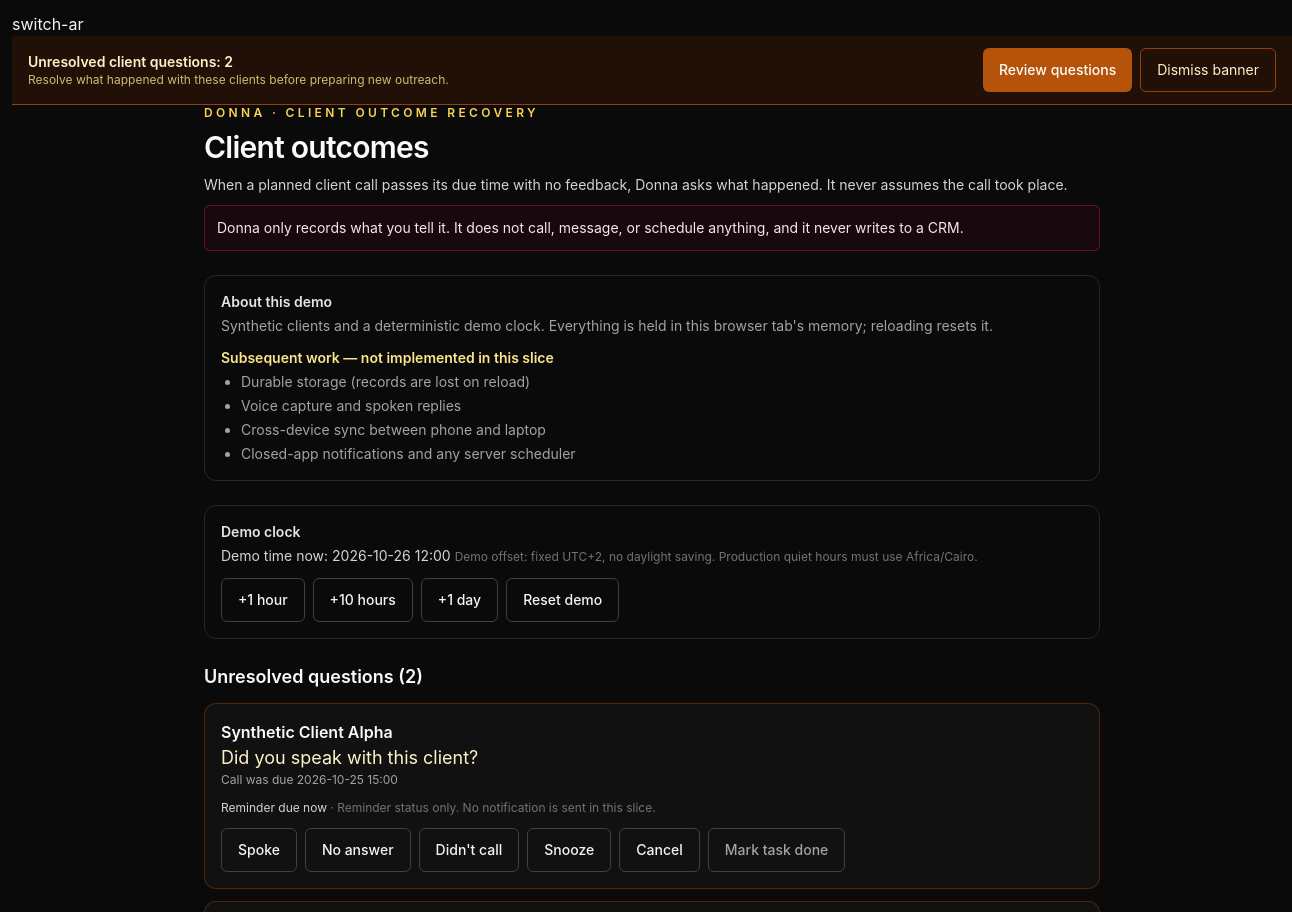
Test: Donna inbox (English) › raises the banner again when a new question becomes due after dismissal
Click the button "Dismiss banner": {"x": 1208, "y": 70} x1=1140 y1=48 x2=1276 y2=92
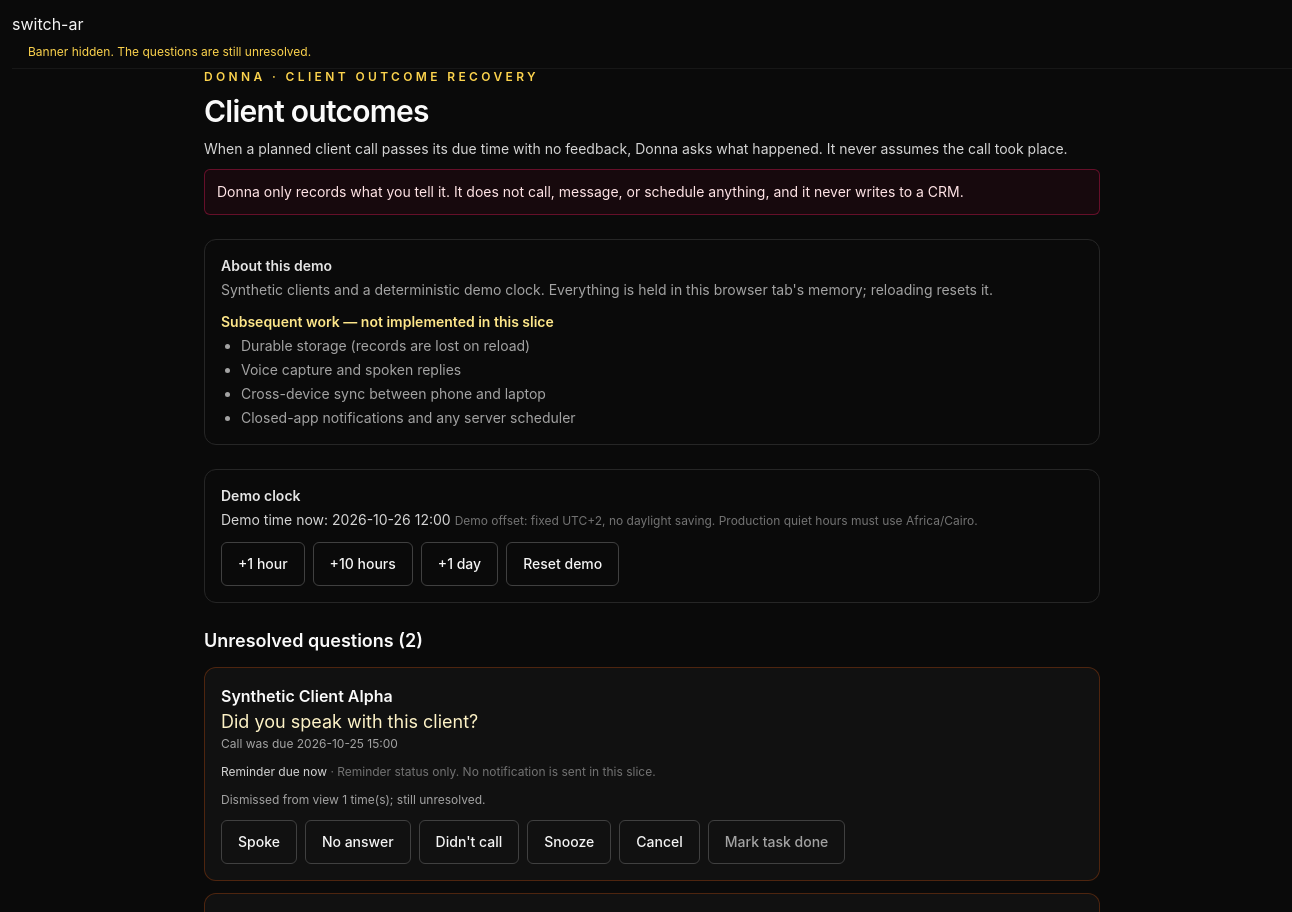
Click the button "+10 hours": {"x": 363, "y": 564} x1=313 y1=542 x2=413 y2=586
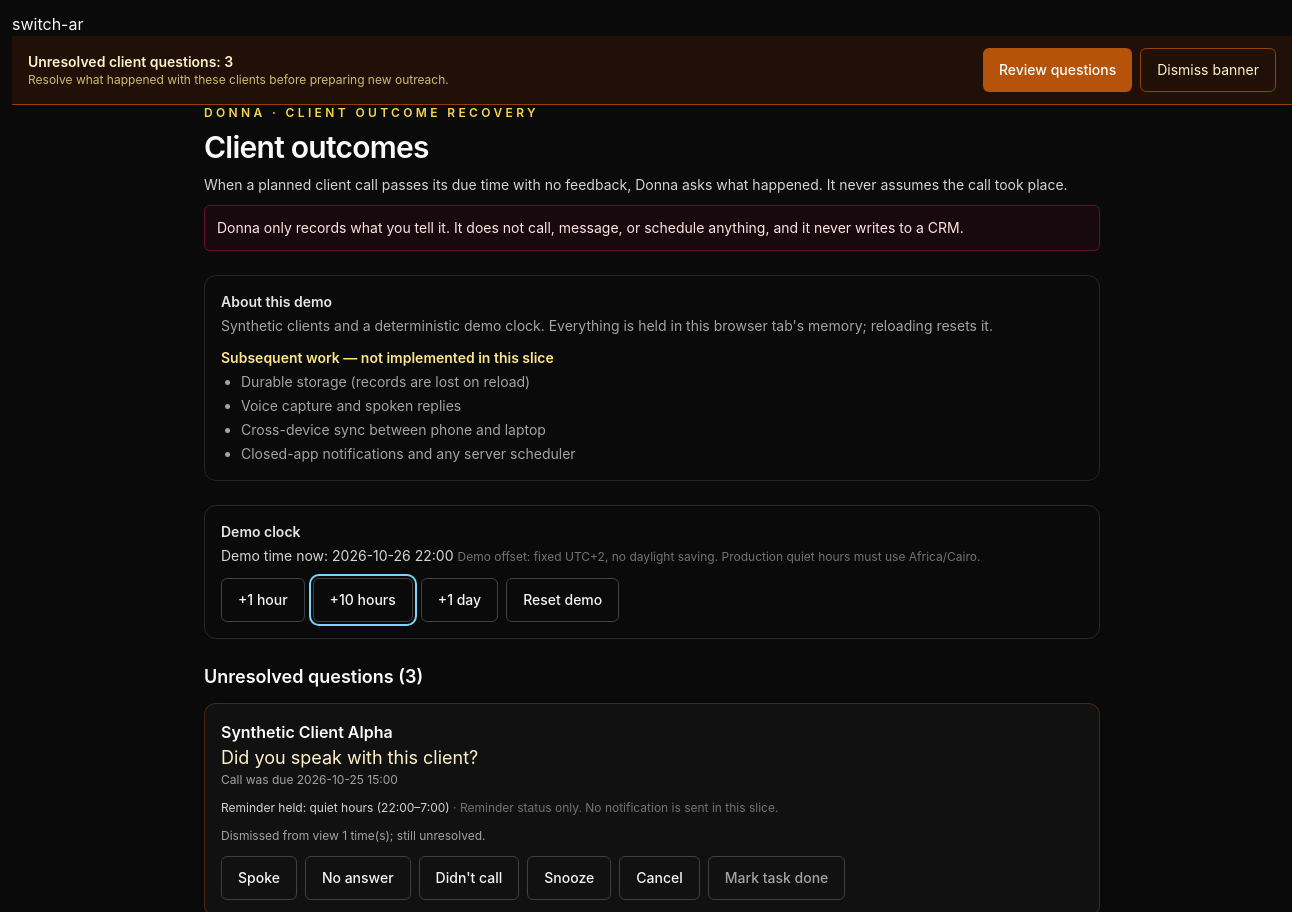
Check: the element with test id "donna-banner" shows "Unresolved client questions: 3", box x1=28 y1=53 x2=233 y2=70
